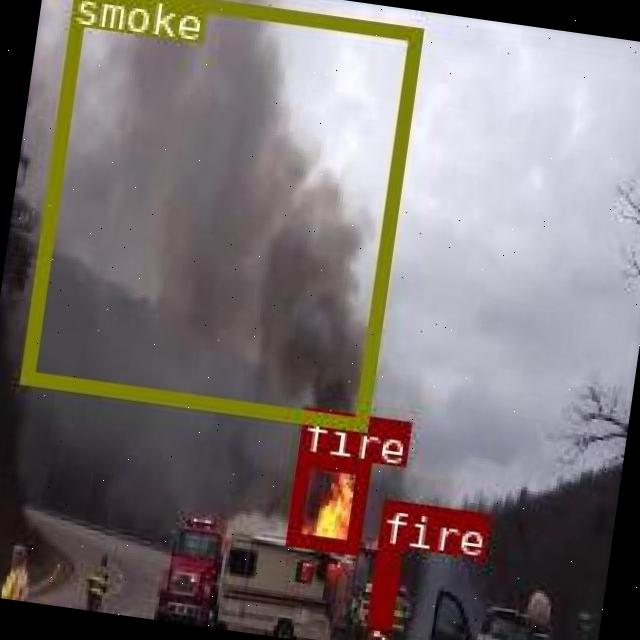fire: (285, 452, 368, 550), (364, 542, 400, 625)
smoke: (19, 0, 421, 429)
